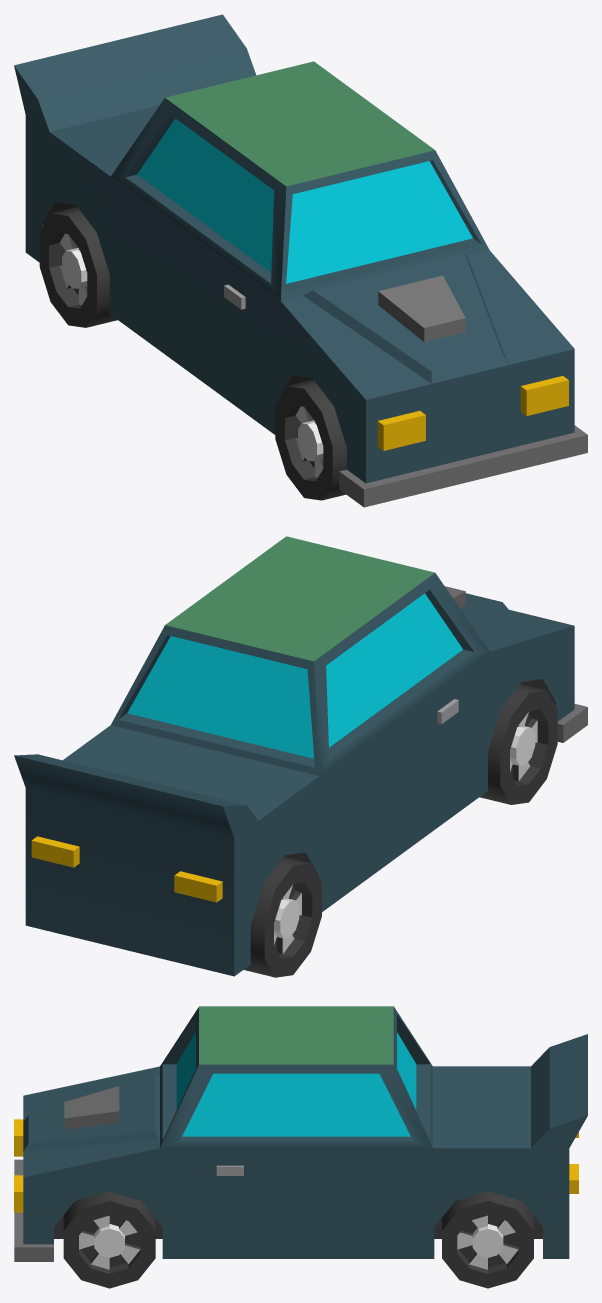
File: CarDraft.fbx
The picture shows the model from 3 angles, top to bottom: view 1: azimuth 30°, elevation 25°; view 2: azimuth 150°, elevation 25°; view 3: azimuth 270°, elevation 25°; orthographic projection. The views are drawn at different scales.
Visible parts, largest first — view 1: MainBody, Roof, Tyre4, Tyre2, Decal2, Decal1; view 2: MainBody, Roof, Tyre4, Tyre2, Decal4, Decal3; view 3: MainBody, Roof, Tyre1, Tyre3, Decal1, Decal2.
Part boxes in pixels (box(x1,y1,x2,y2)): MainBody: box(14, 14, 587, 507); Roof: box(165, 61, 434, 186); Tyre4: box(39, 207, 117, 327); Tyre2: box(275, 379, 346, 500); Decal2: box(377, 410, 425, 450); Decal1: box(520, 376, 568, 415); MainBody: box(14, 573, 587, 976); Roof: box(165, 536, 434, 661); Tyre4: box(244, 856, 321, 977); Tyre2: box(479, 684, 557, 804); Decal4: box(174, 871, 222, 902); Decal3: box(31, 836, 79, 867); MainBody: box(14, 1006, 587, 1261); Roof: box(199, 1006, 393, 1064); Tyre1: box(63, 1191, 155, 1288); Tyre3: box(442, 1191, 533, 1288); Decal1: box(14, 1175, 23, 1212); Decal2: box(14, 1119, 23, 1156).
Size of the model in its own units: 1.14 by 1.27 by 3.15.
Materials: 3 (1 with a texture image).
